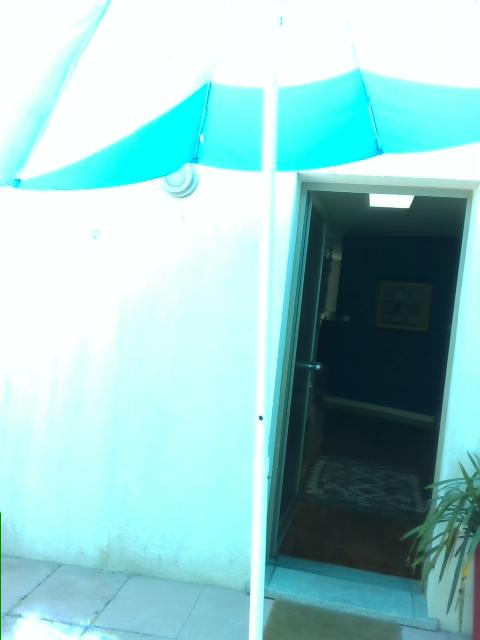door: (272, 190, 331, 554)
